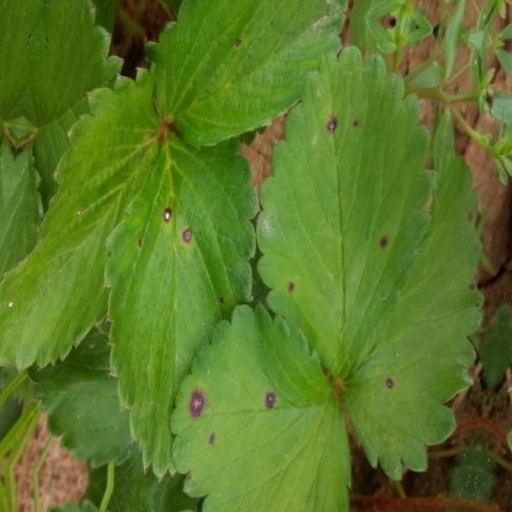Leaf Spot: (245, 147, 420, 481), (103, 16, 262, 368), (2, 96, 146, 420), (368, 62, 494, 400), (202, 0, 396, 213), (106, 348, 302, 511)
